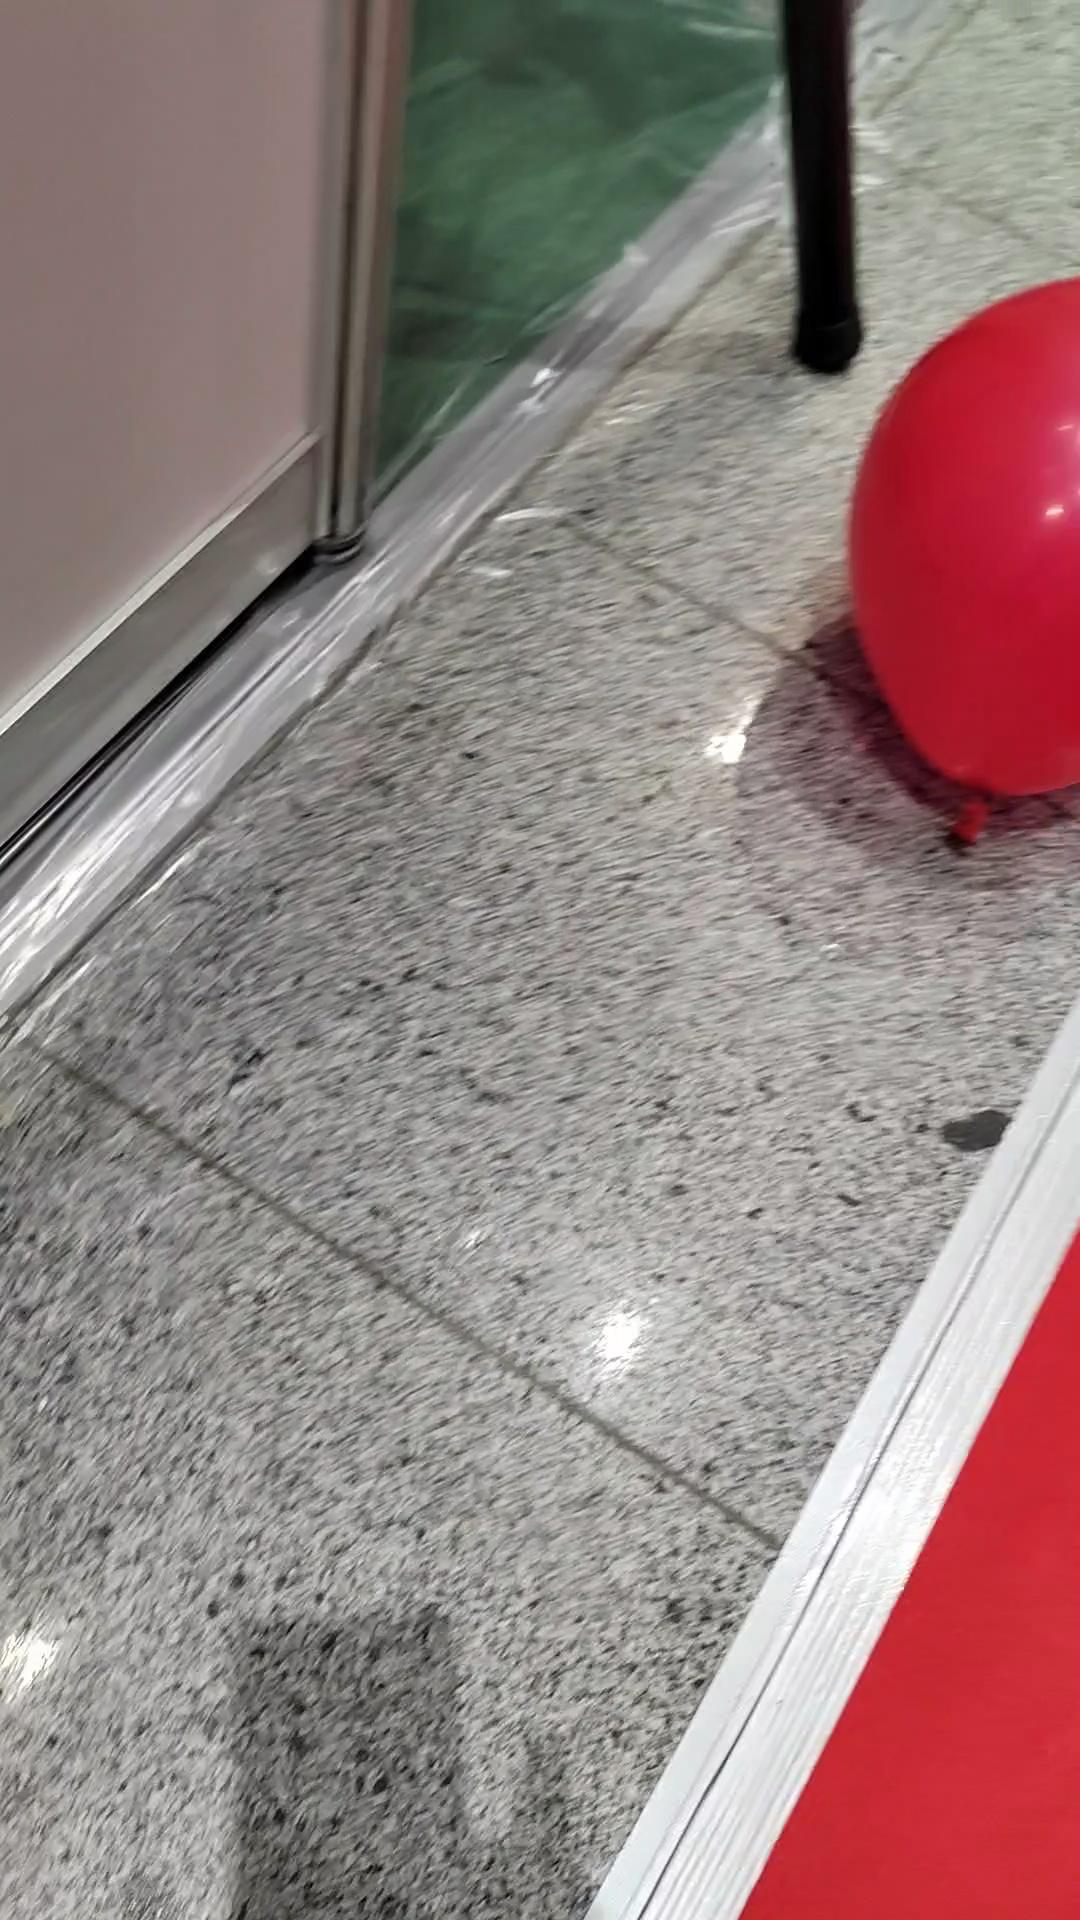red: (829, 270, 1080, 808)
